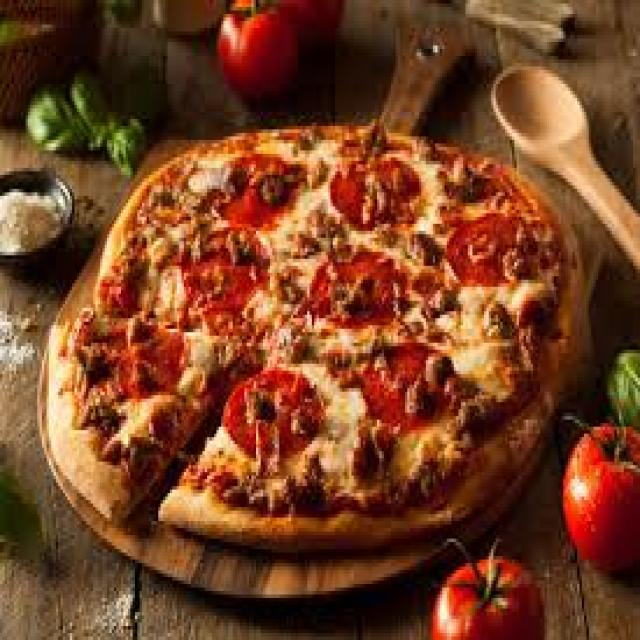피자: (35, 119, 591, 602)
